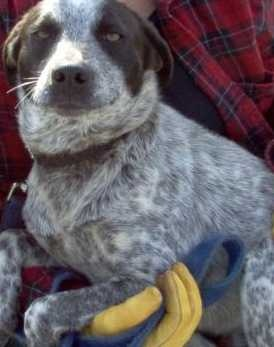Dog: (3, 0, 273, 333)
